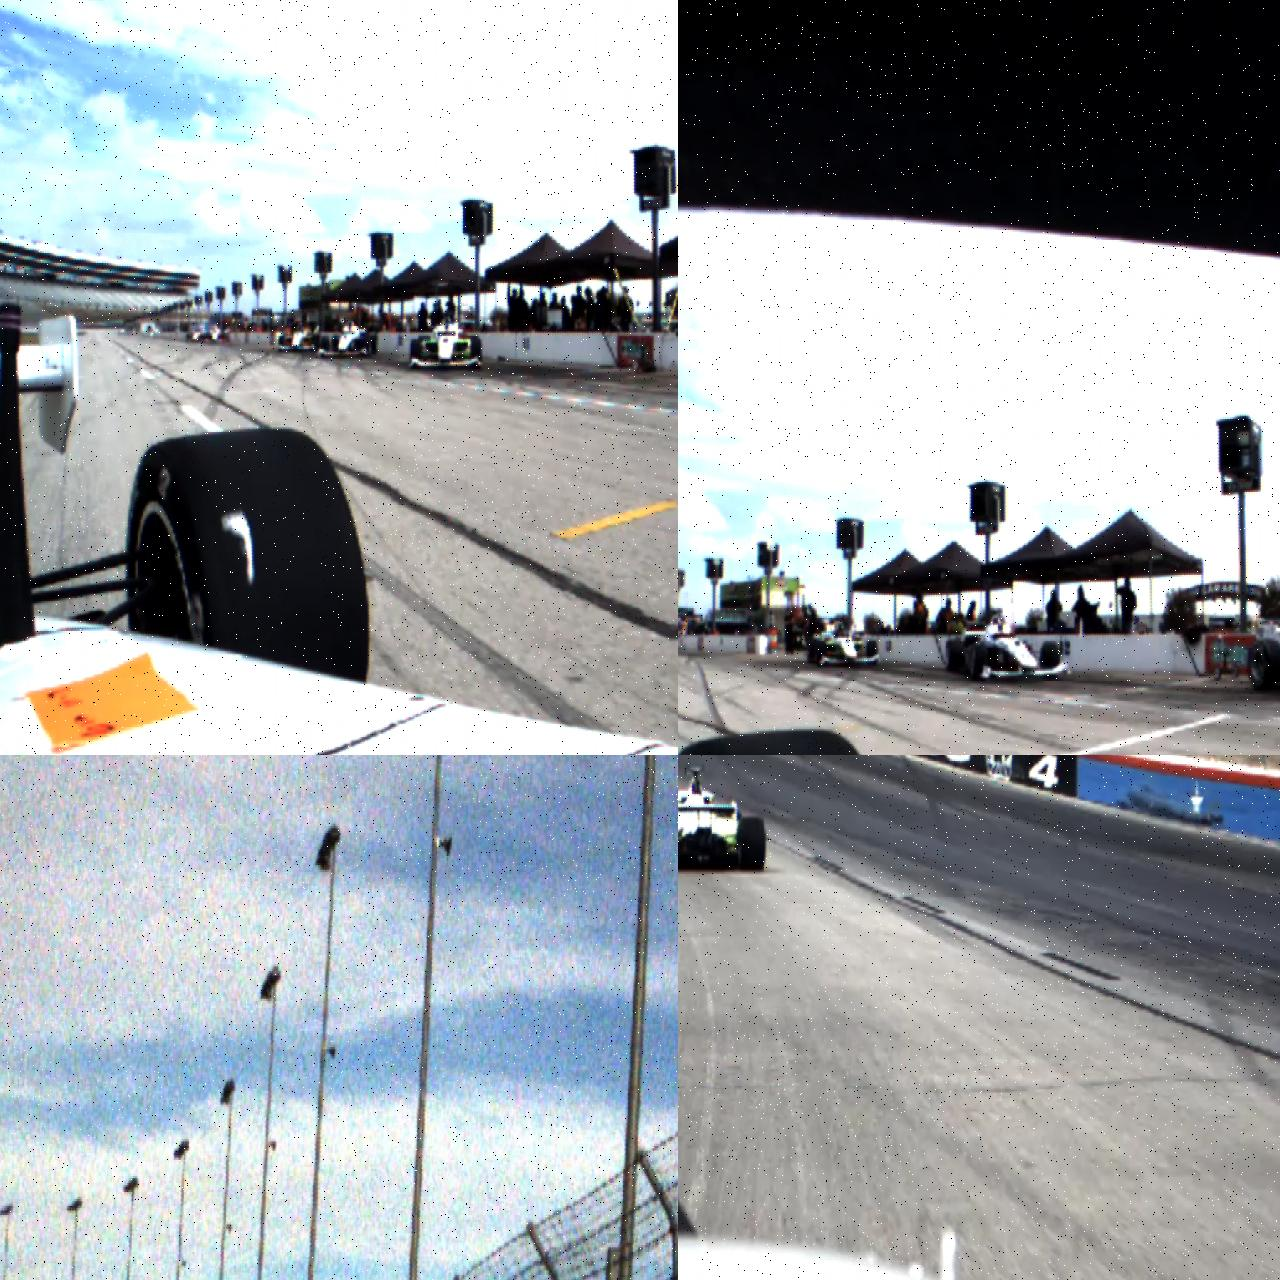AV: (946, 608, 1072, 686), (678, 764, 766, 872), (409, 312, 484, 372), (808, 622, 878, 668), (321, 319, 378, 357), (276, 322, 321, 352)
Wheel: (128, 426, 370, 684), (1247, 638, 1280, 694), (740, 817, 766, 872), (1040, 640, 1060, 680), (946, 640, 963, 674), (471, 338, 483, 370), (866, 640, 878, 668), (410, 339, 420, 368), (370, 335, 378, 355), (322, 337, 328, 356), (362, 338, 368, 356)
